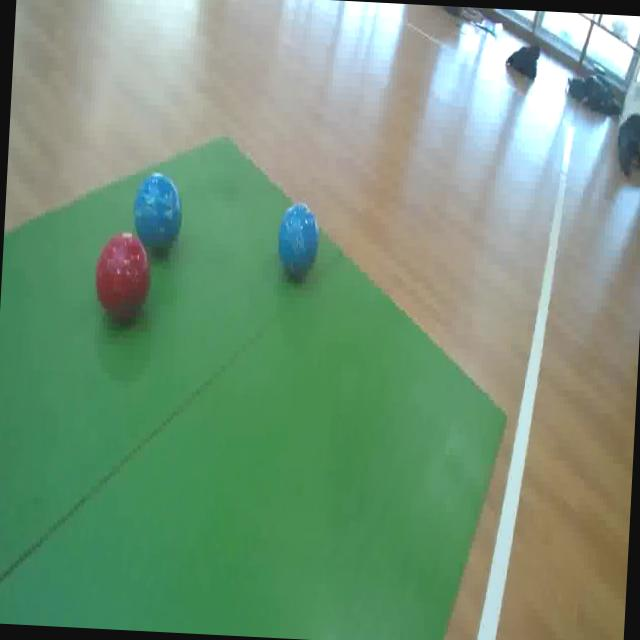blue_ball: (128, 166, 188, 265), (274, 198, 322, 282)
red_ball: (91, 228, 154, 327)
